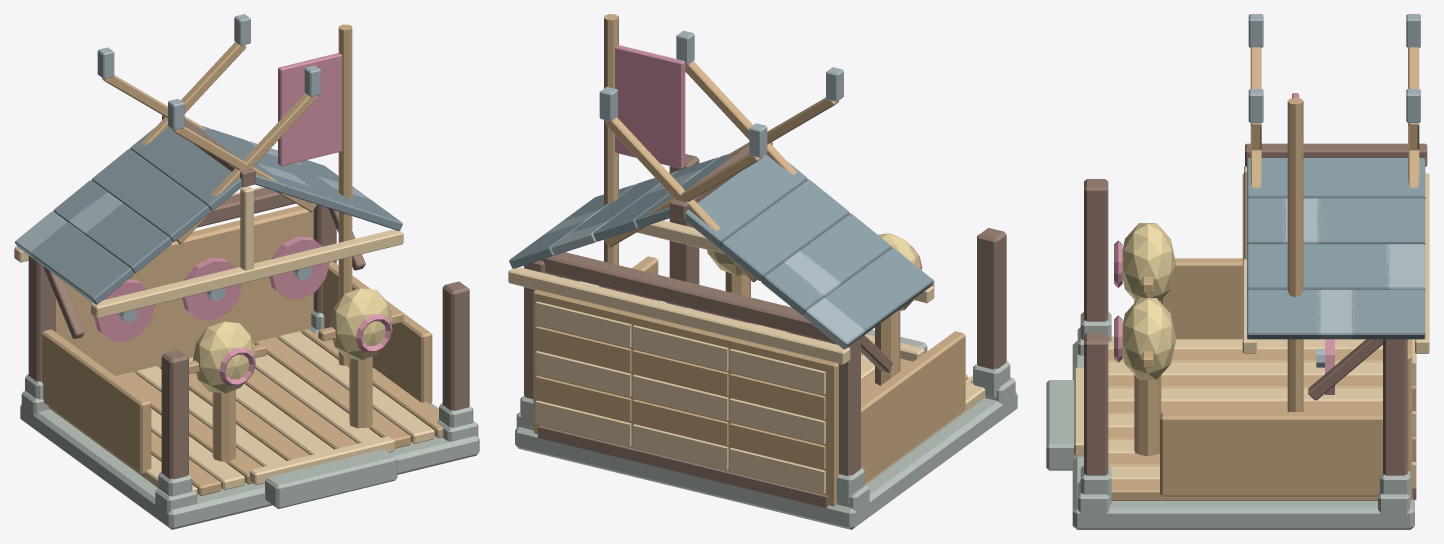
The model's file is barracks.fbx.
3 views of the same model, side by side, from view 1: azimuth 30°, elevation 25°; view 2: azimuth 150°, elevation 25°; view 3: azimuth 270°, elevation 25° (orthographic). The views are drawn at different scales.
Visible parts, largest first — view 1: barracks_mesh; view 2: barracks_mesh; view 3: barracks_mesh.
Boxes of the visible parts, <box> form: barracks_mesh: <box>14,14,479,529</box>; barracks_mesh: <box>508,14,1017,529</box>; barracks_mesh: <box>1046,14,1429,529</box>.
Bounding box in the file's own units: 3.28 × 3.68 × 3.12.
